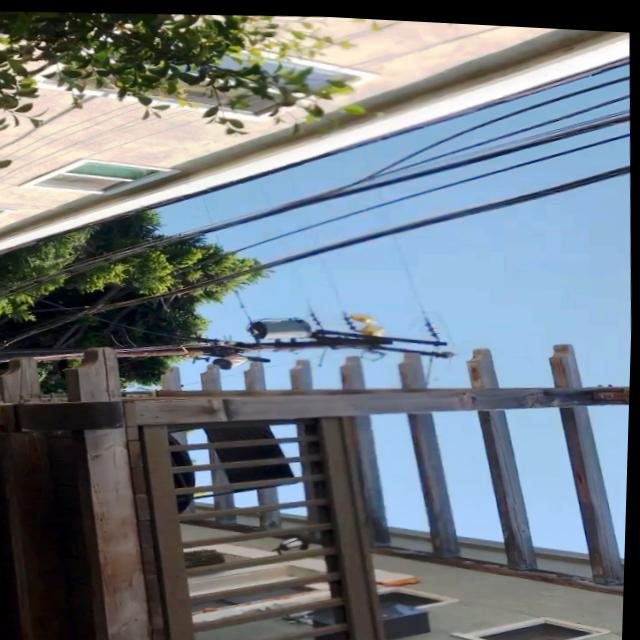obstruction: (348, 310, 384, 331)
poles: (114, 310, 455, 367), (0, 349, 87, 361)
wires: (395, 235, 443, 335), (323, 254, 346, 308), (235, 286, 254, 323), (202, 193, 212, 221), (319, 346, 327, 362), (214, 233, 224, 245)
